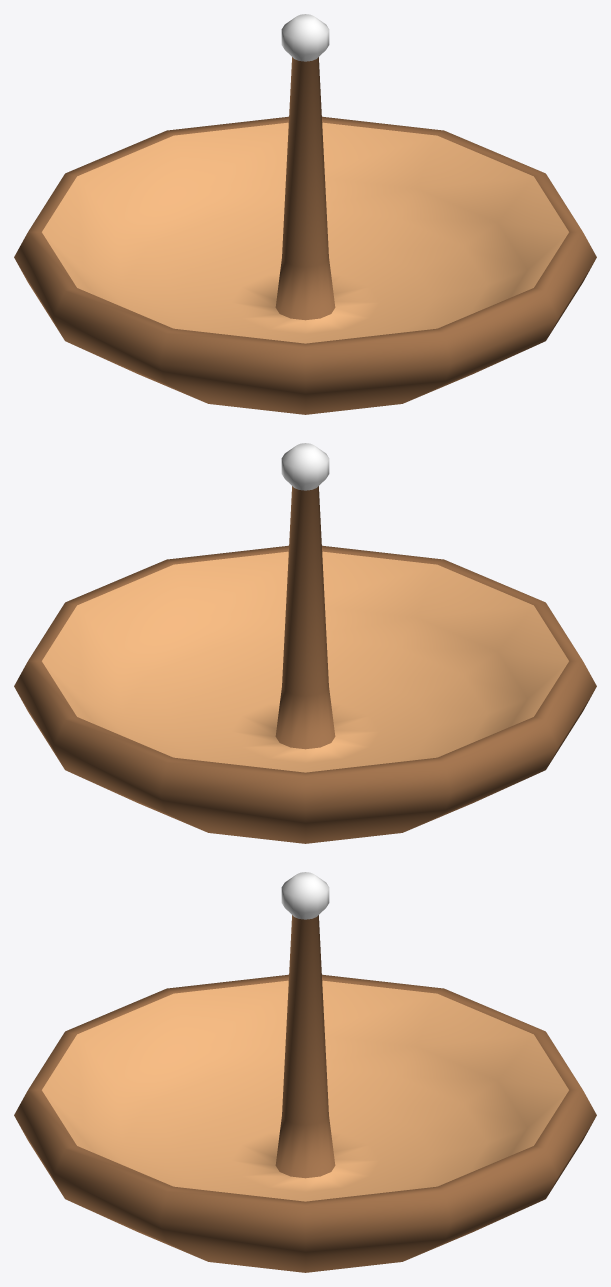
File: Audiodish.fbx
3 views of the same model, one above another, from view 1: azimuth 30°, elevation 25°; view 2: azimuth 150°, elevation 25°; view 3: azimuth 270°, elevation 25° (orthographic).
Parts seen in each view (by area): view 1: Audiodish - Haskipend; view 2: Audiodish - Haskipend; view 3: Audiodish - Haskipend.
Boxes of the visible parts, box(x1,y1,x2,y2) form: Audiodish - Haskipend: box(14, 14, 596, 414); Audiodish - Haskipend: box(14, 443, 596, 843); Audiodish - Haskipend: box(14, 872, 596, 1272).
Bounding box in the file's own units: 40.21 × 24.89 × 40.21.
